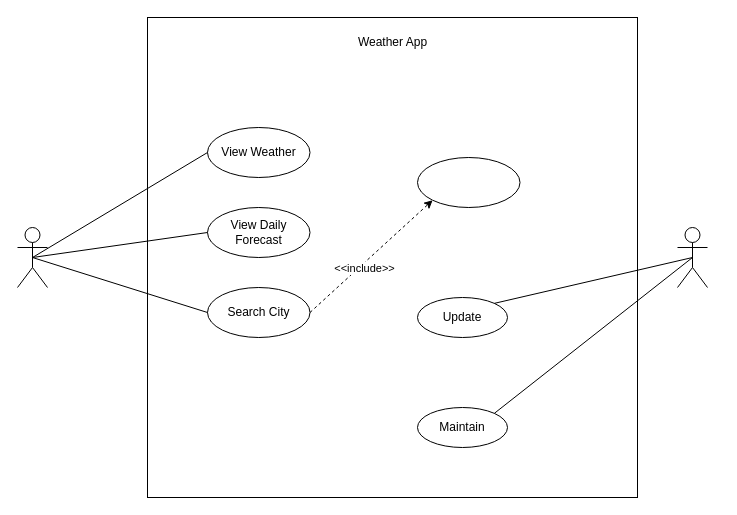
Some shapes in this 737 by 515 pixel diagram are drawn without their labels. Here are the shapes that lost their labels. From the top down, the centre of each, then its label:
the point at 468,182: Match City with API
the point at 32,257: User
the point at 692,257: Developer
